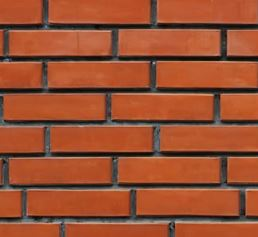brick: (135, 188, 242, 218), (8, 28, 113, 58), (1, 94, 109, 123), (115, 156, 222, 185), (48, 125, 154, 154), (156, 60, 258, 90), (111, 94, 216, 123), (27, 188, 131, 217), (157, 125, 257, 155), (116, 28, 222, 56), (5, 157, 112, 184), (48, 61, 151, 89), (47, 1, 153, 24), (157, 1, 258, 23), (65, 222, 170, 236), (1, 60, 44, 90), (1, 126, 47, 154), (173, 221, 258, 236), (219, 92, 258, 122), (1, 1, 44, 25), (1, 221, 64, 236), (227, 29, 258, 59), (226, 157, 258, 184), (1, 189, 25, 221), (245, 188, 258, 218)
